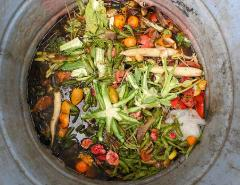organic: (98, 89, 136, 137), (118, 42, 182, 60), (92, 36, 116, 80), (68, 80, 88, 108)
